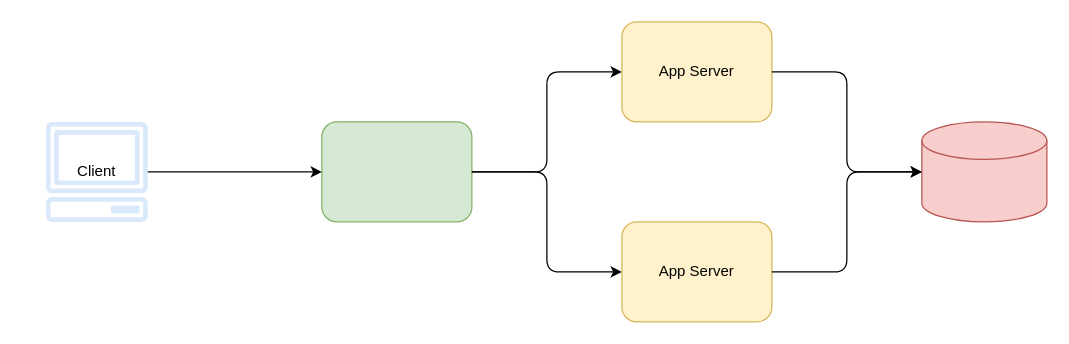
This 1069x344 diagram has some shape labels left out. Here are the shapes that lost their labels. From the top down, the centre of each, then its label:
At [396,171]: "Load Balancer".
At [984,171]: "Database".
